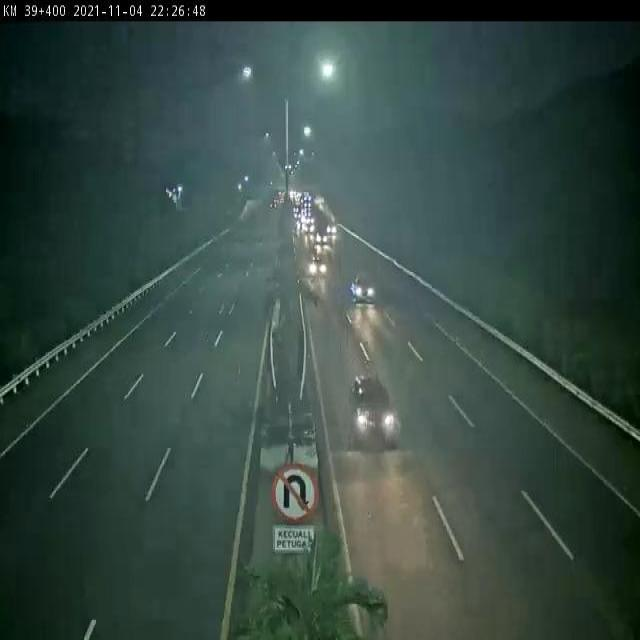car: (344, 357, 402, 452)
